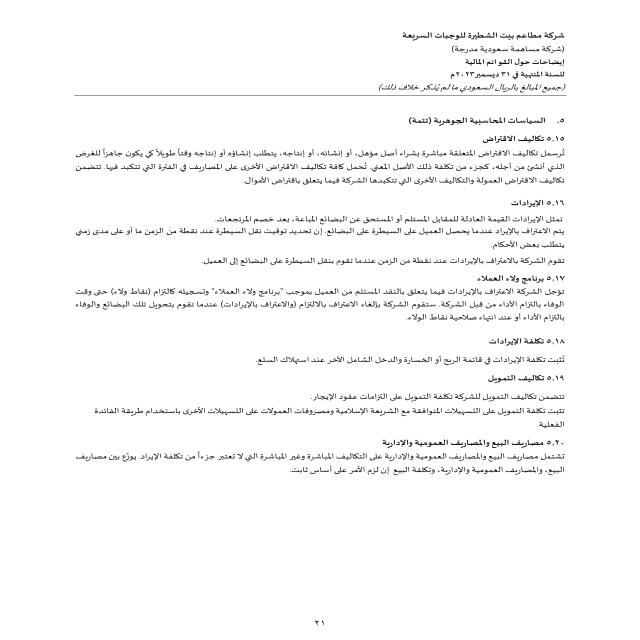notes: (456, 58, 568, 66)
text: (41, 113, 578, 497)
